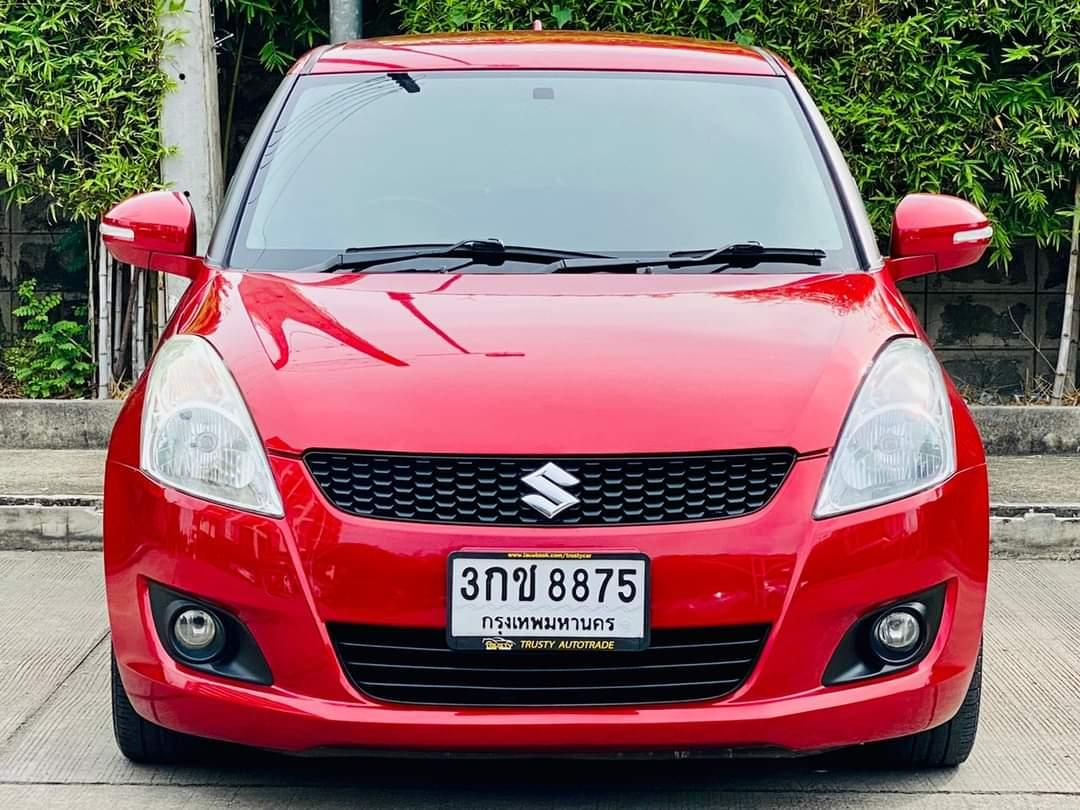license-plate: (444, 548, 652, 656)
